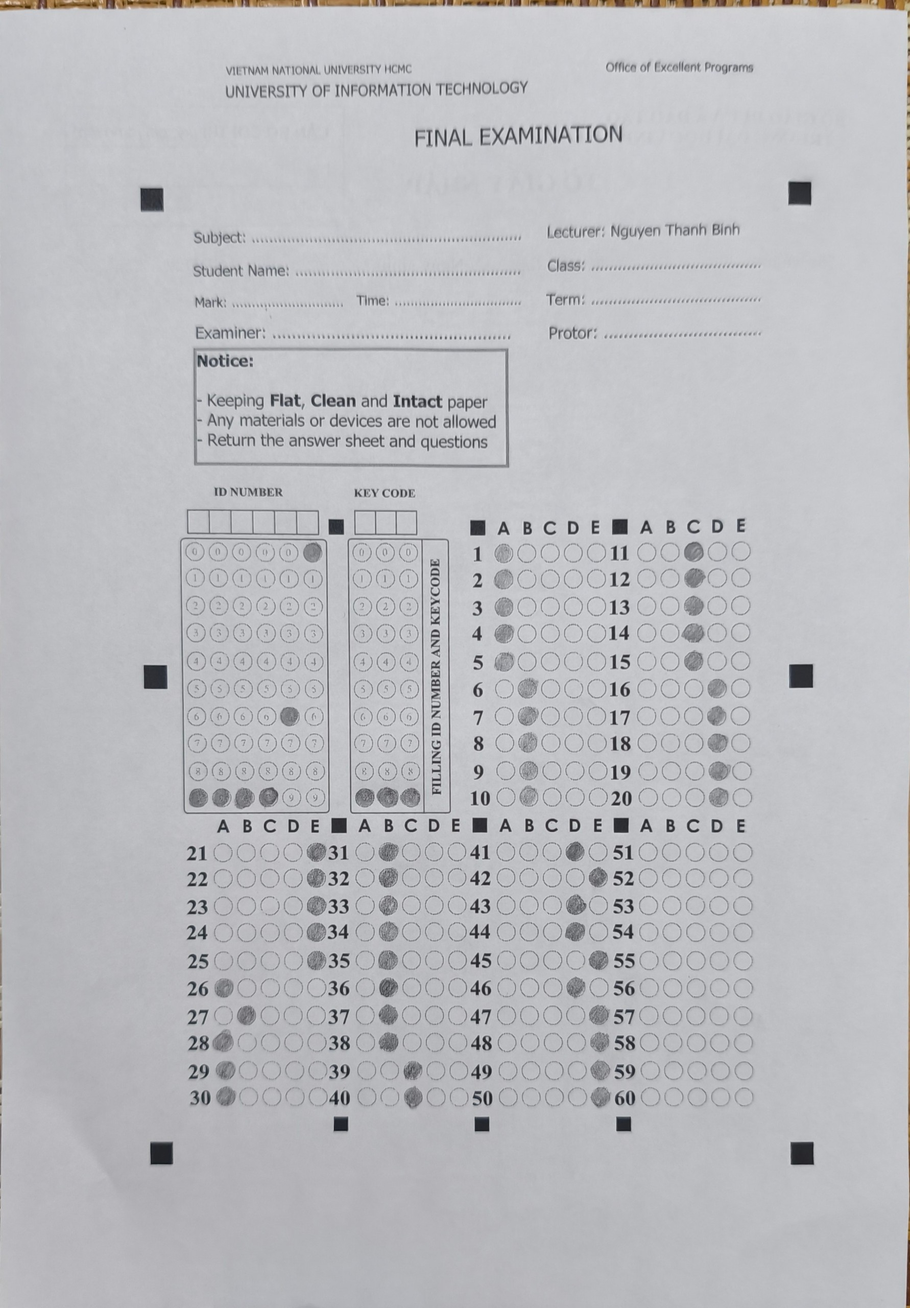info_region: (180, 543, 427, 815)
paper_region: (154, 193, 804, 1155)
q_1_20: (477, 522, 758, 827)
q_21_60: (180, 827, 758, 1125)
